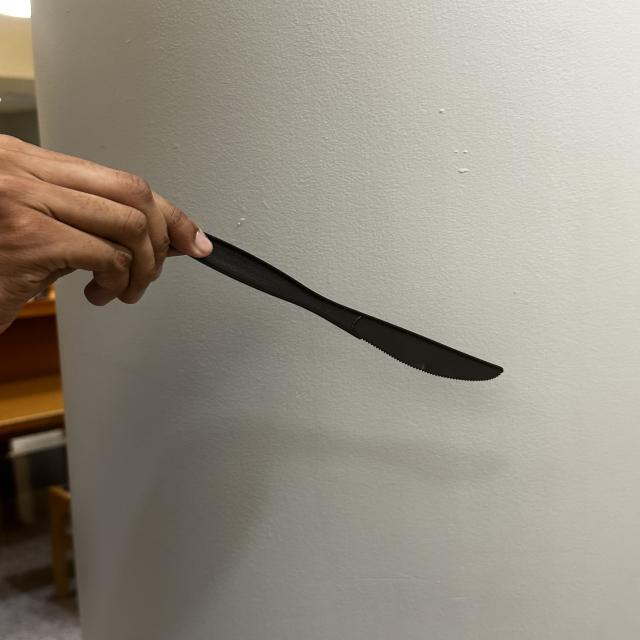knife: (174, 218, 550, 418)
